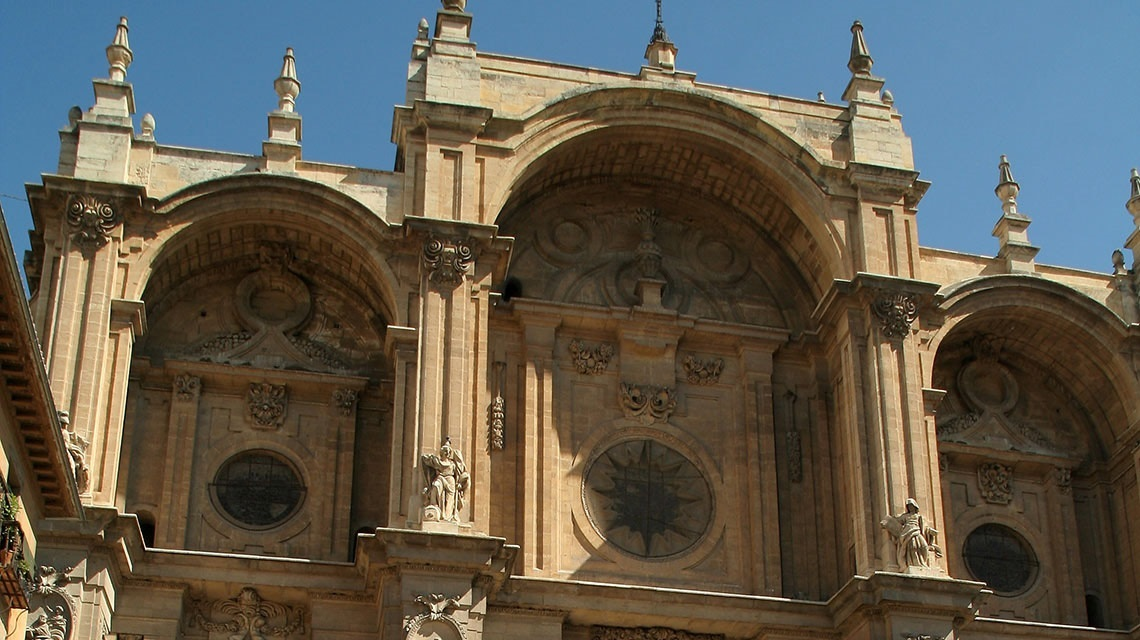arco-medio-punto: (477, 116, 859, 323), (121, 192, 414, 367), (923, 291, 1140, 450)
ojo-de-buey: (202, 440, 316, 534), (955, 514, 1048, 599)
